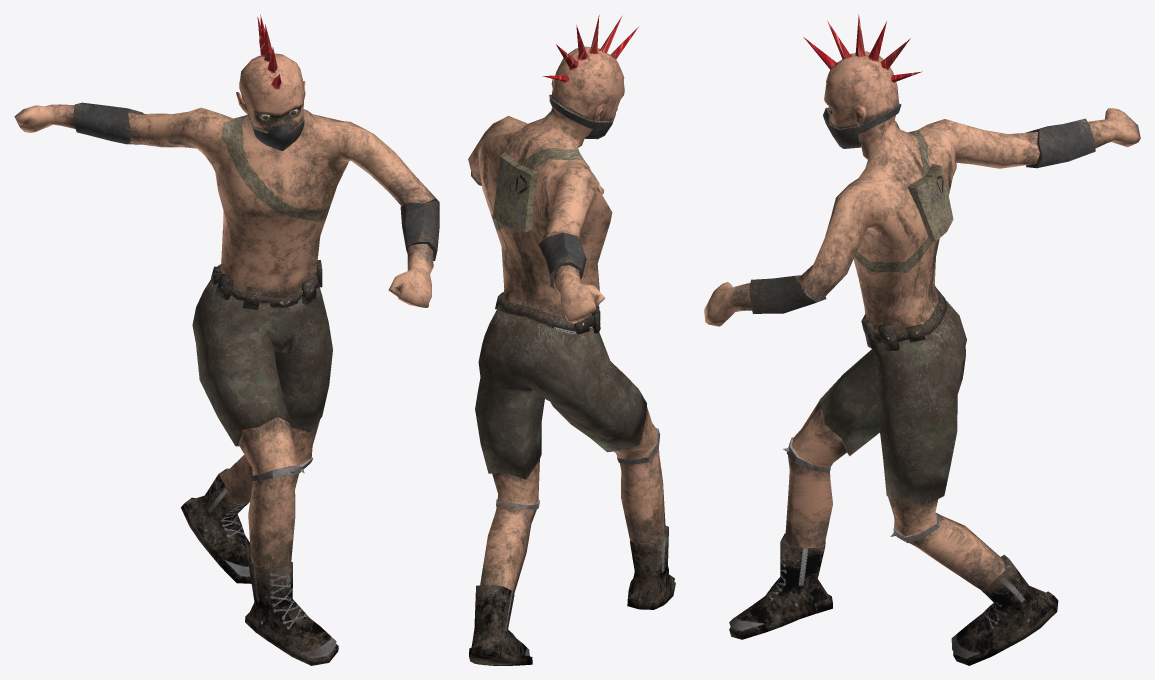
File: Anim_arma_cc_npc2.0018.obj
3 renders of one model, left to right at view 1: azimuth 30°, elevation 25°; view 2: azimuth 150°, elevation 25°; view 3: azimuth 270°, elevation 25°, orthographic. The views are drawn at different scales.
Visible parts, largest first — view 1: polySurface1; view 2: polySurface1; view 3: polySurface1.
Boxes of the visible parts, x1,y1,x2,y2 form: polySurface1: (14, 14, 439, 665); polySurface1: (468, 15, 675, 665); polySurface1: (704, 14, 1140, 665).
Size of the model in its own units: 4.65 by 9.73 by 6.11.
